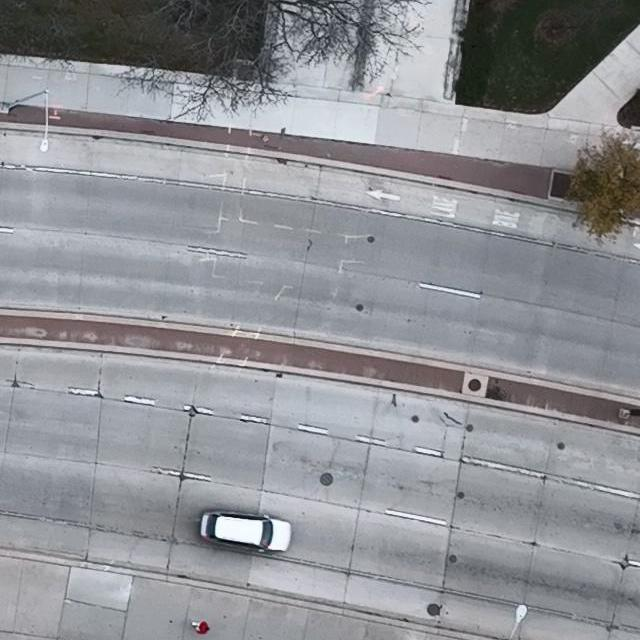car: (200, 509, 292, 554)
